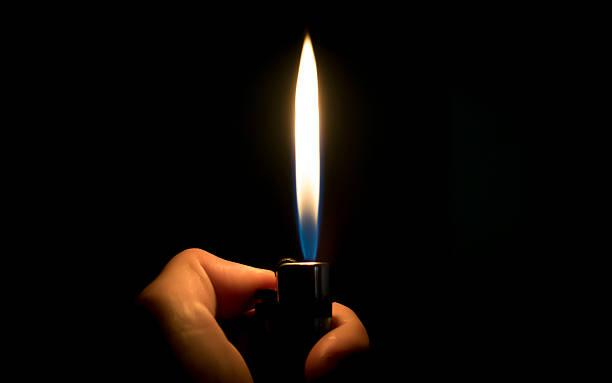Fire: (290, 31, 322, 258)
